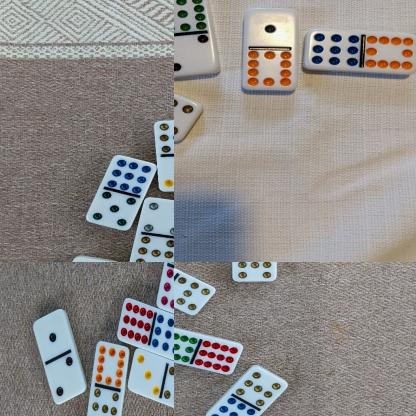pip-1: (242, 5, 296, 45), (32, 310, 67, 359)
pip-10: (240, 48, 296, 90), (363, 30, 416, 74), (94, 340, 127, 386)
pip-11: (174, 0, 208, 32), (174, 326, 199, 362)
pip-12: (116, 297, 153, 346), (194, 339, 242, 374)
pip-2: (49, 353, 85, 405), (174, 32, 216, 75)
pip-3: (127, 347, 163, 396), (154, 155, 174, 191)
pip-4: (141, 196, 174, 235)
pip-5: (84, 191, 136, 230)
pip-7: (235, 362, 287, 407), (174, 275, 215, 314), (128, 235, 174, 262), (174, 91, 198, 140), (85, 386, 120, 416), (230, 262, 276, 281), (151, 118, 174, 152), (162, 363, 174, 413)
pip-8: (155, 267, 174, 317)
pip-9: (306, 29, 361, 71), (104, 153, 156, 195), (150, 310, 174, 361), (204, 395, 255, 416)
